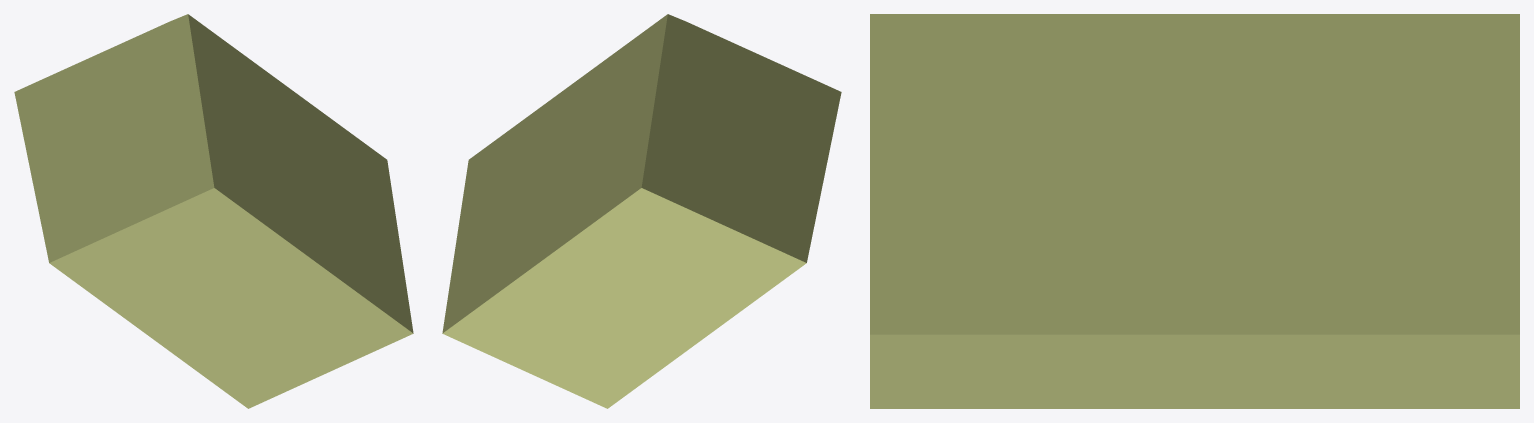
The picture shows the model from 3 angles, left to right: view 1: azimuth 30°, elevation 25°; view 2: azimuth 150°, elevation 25°; view 3: azimuth 270°, elevation 25°; orthographic projection. The views are drawn at different scales.
Parts seen in each view (by area): view 1: 0_1_2_0_0_2_2_0_2_3_1_2; view 2: 0_1_2_0_0_2_2_0_2_3_1_2; view 3: 0_1_2_0_0_2_2_0_2_3_1_2.
Boxes of the visible parts, bbox=[...] form: 0_1_2_0_0_2_2_0_2_3_1_2: bbox=[14, 14, 413, 408]; 0_1_2_0_0_2_2_0_2_3_1_2: bbox=[442, 14, 841, 408]; 0_1_2_0_0_2_2_0_2_3_1_2: bbox=[870, 14, 1519, 408].
Size of the model in its own units: 3.48 by 3.58 by 6.
